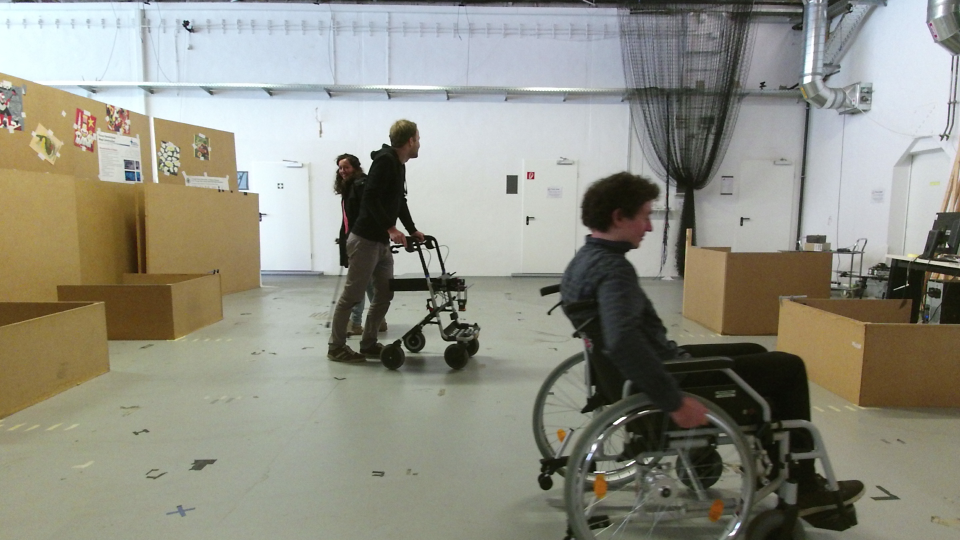wheelchair: (521, 169, 866, 540)
